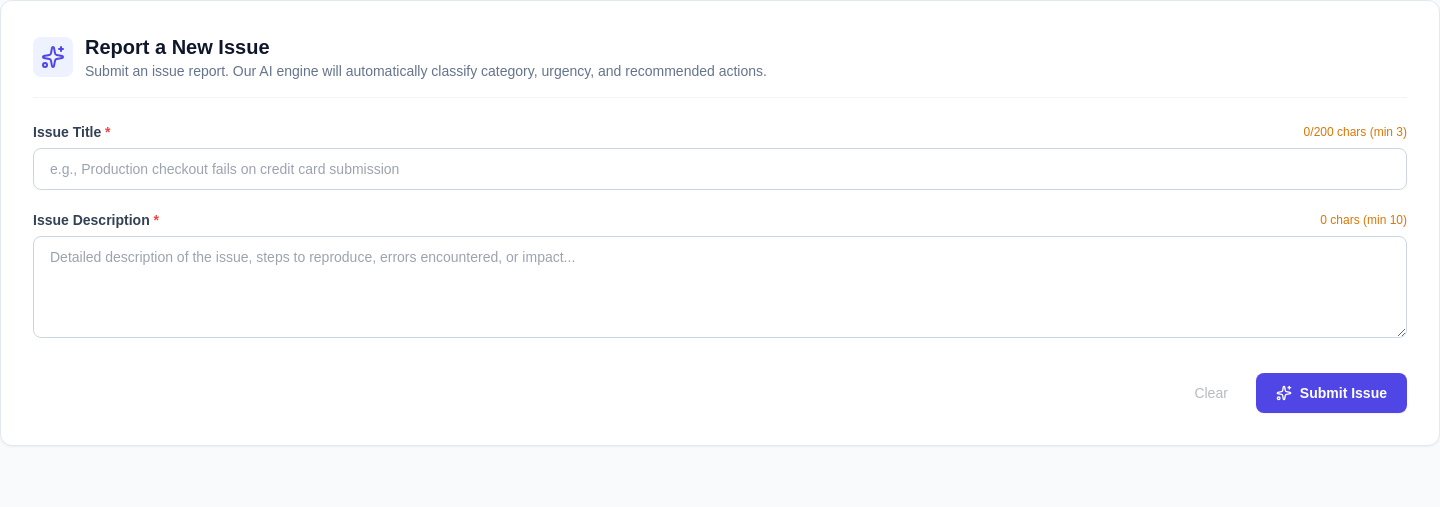
Scenario: IssueForm Component › validates minimum length requirements for title and description
The image size is (1440, 507).
Type "ab" into the field labelled "Issue Title *". click: (720, 169)
box: [33,148,1407,190]
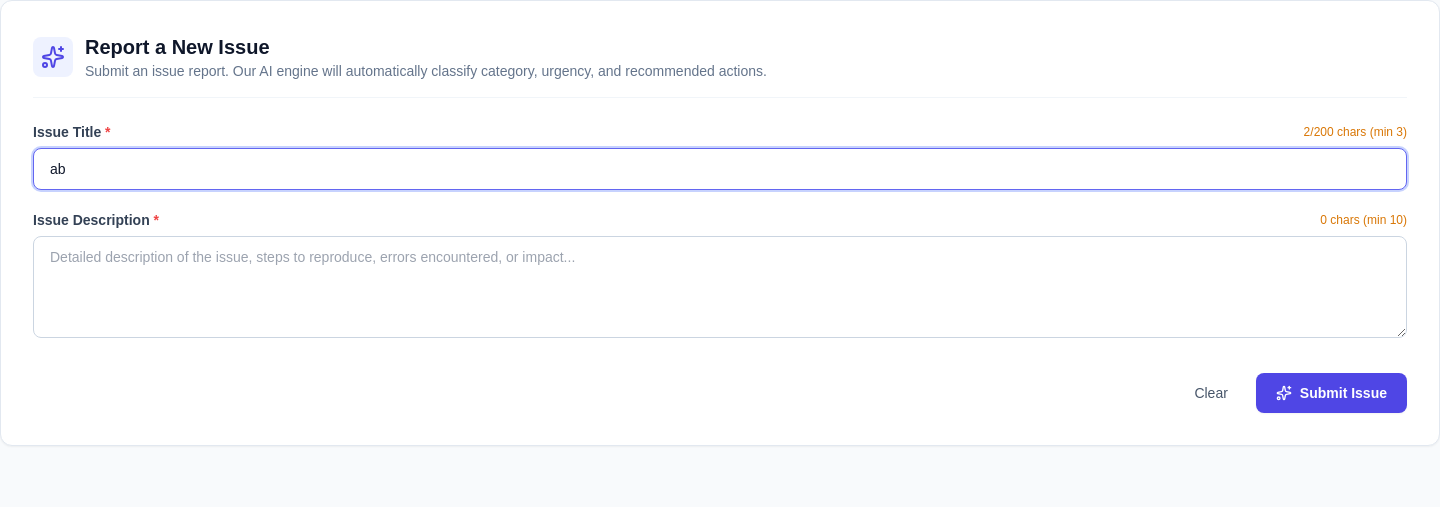
Type "short" into the text box labelled "Issue Description *". click: (720, 287)
box: [33,236,1407,338]
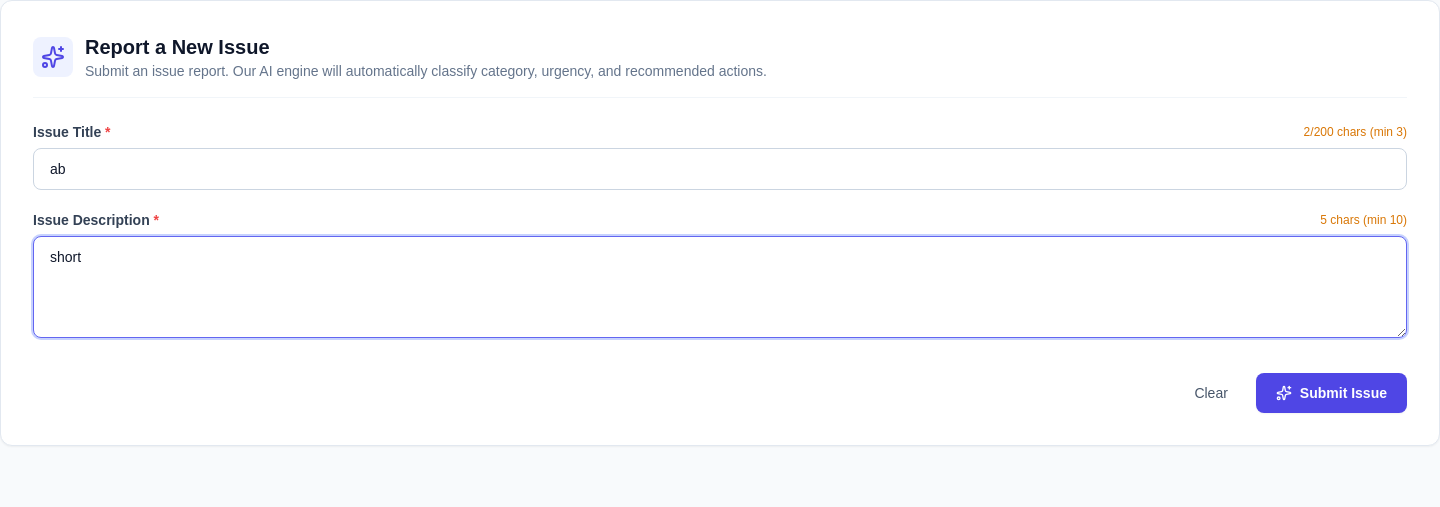
Click the button with test id "submit-issue-button". click: (1331, 393)
box: [1256,373,1407,413]
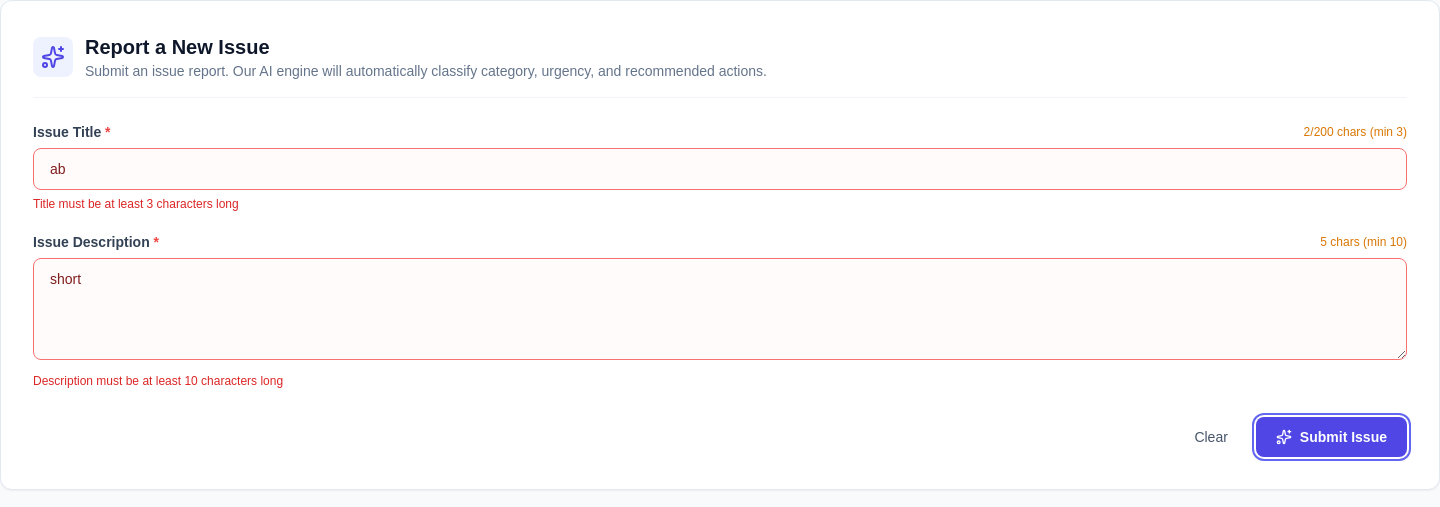
Expected: the text "Title must be at least 3 characters long" is shown, [33,197,239,211]
Expected: the text "Description must be at least 10 characters long" is shown, [33,374,283,388]
